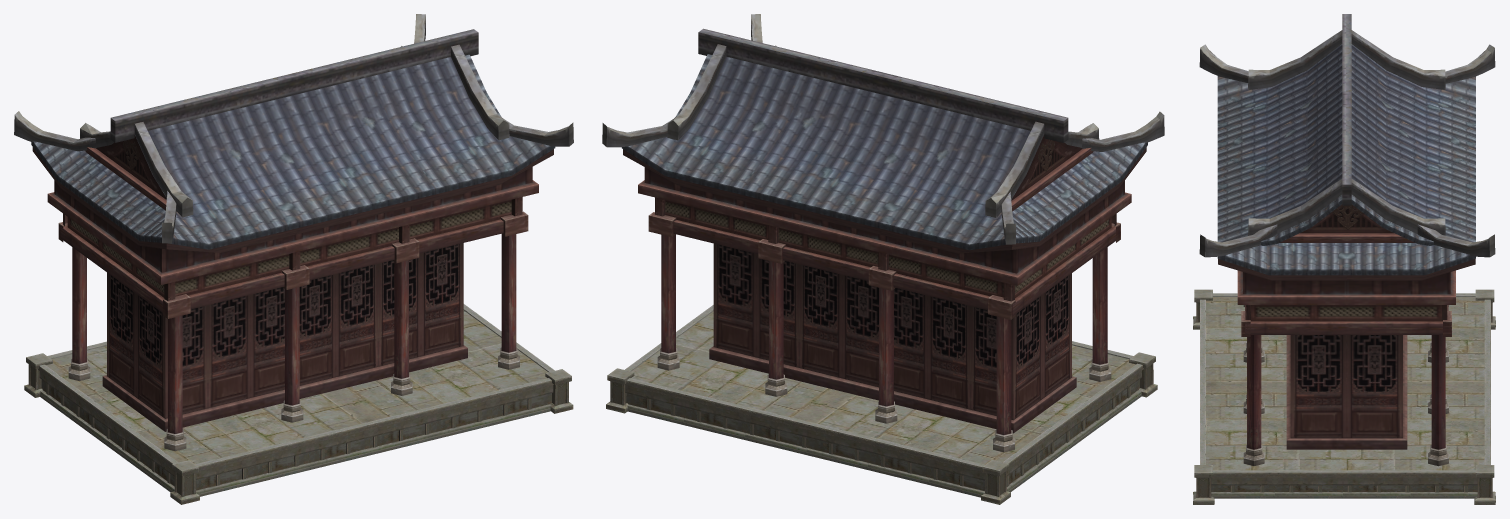
Rendered from build_01_07.FBX.
The picture shows the model from 3 angles, left to right: view 1: azimuth 30°, elevation 25°; view 2: azimuth 150°, elevation 25°; view 3: azimuth 270°, elevation 25°; orthographic projection. The views are drawn at different scales.
Parts seen in each view (by area): view 1: segment_35, segment_37; view 2: segment_35, segment_37; view 3: segment_35, segment_37, segment_36.
Boxes of the visible parts, <box> form: segment_35: <box>14,14,573,451</box>; segment_37: <box>24,304,573,504</box>; segment_35: <box>602,14,1164,452</box>; segment_37: <box>606,305,1157,504</box>; segment_35: <box>1199,14,1495,466</box>; segment_37: <box>1193,289,1495,504</box>; segment_36: <box>1332,204,1362,229</box>.
Bounding box in the file's own units: 380 × 286 × 251.
Materials: 3 (3 with a texture image).
